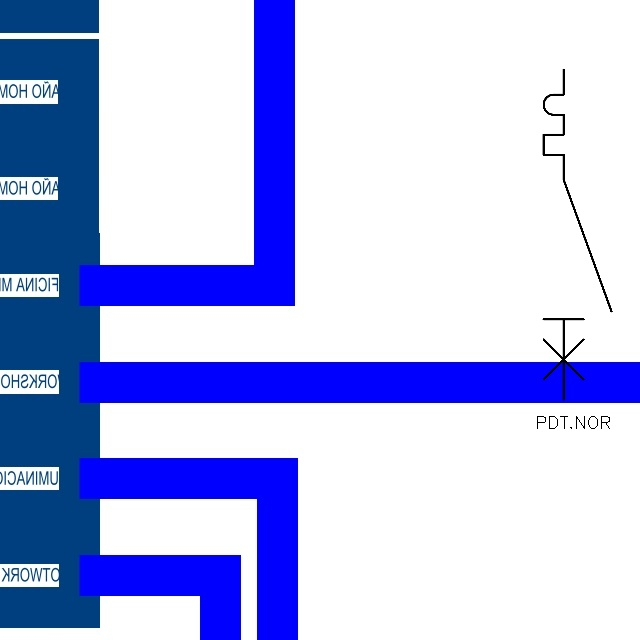interruptor_termomagnetico: (535, 61, 620, 408)
